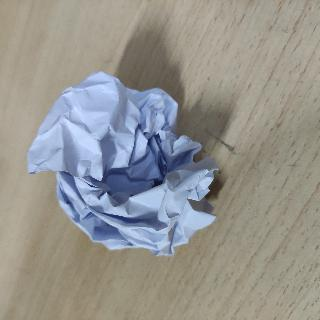8/可回收垃圾/纸: (25, 70, 219, 259)
